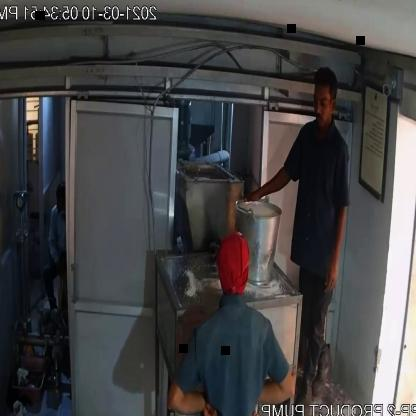no_glove: (317, 184, 353, 308), (238, 157, 298, 221), (162, 366, 225, 416)
